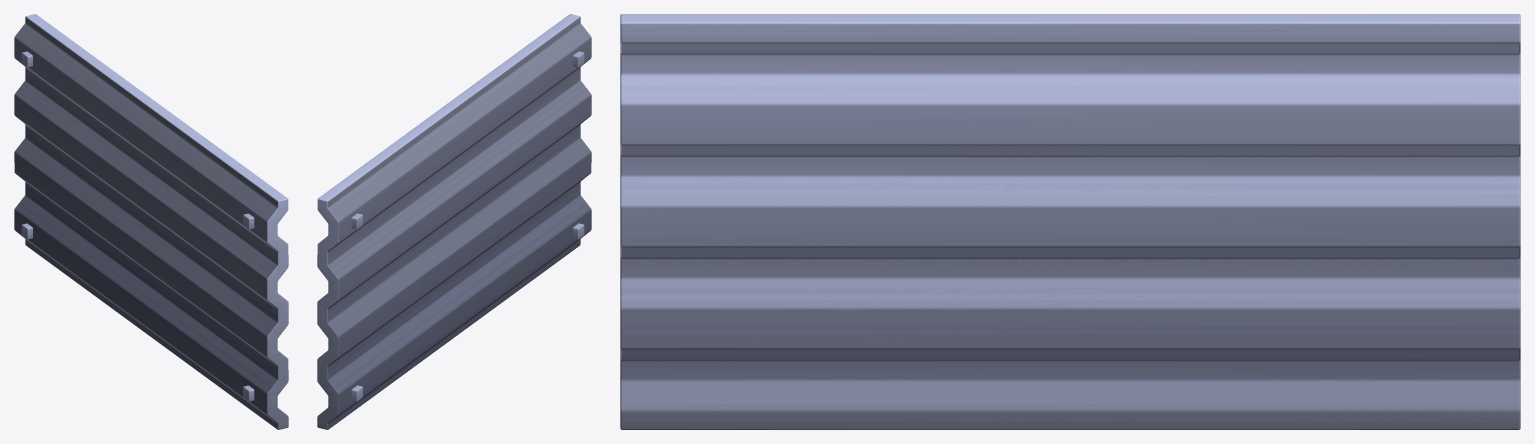
File: plating-detailed-wide.glb
The picture shows the model from 3 angles, left to right: view 1: azimuth 30°, elevation 25°; view 2: azimuth 150°, elevation 25°; view 3: azimuth 270°, elevation 25°; orthographic projection. The views are drawn at different scales.
Parts seen in each view (by area): view 1: plating-detailed-wide; view 2: plating-detailed-wide; view 3: plating-detailed-wide.
Boxes of the visible parts, bbox=[...] form: plating-detailed-wide: bbox=[14, 14, 288, 429]; plating-detailed-wide: bbox=[317, 14, 591, 429]; plating-detailed-wide: bbox=[620, 14, 1520, 429].
Bounding box in the file's own units: 0.125 × 1 × 2.
Materials: 1 (1 with a texture image).
